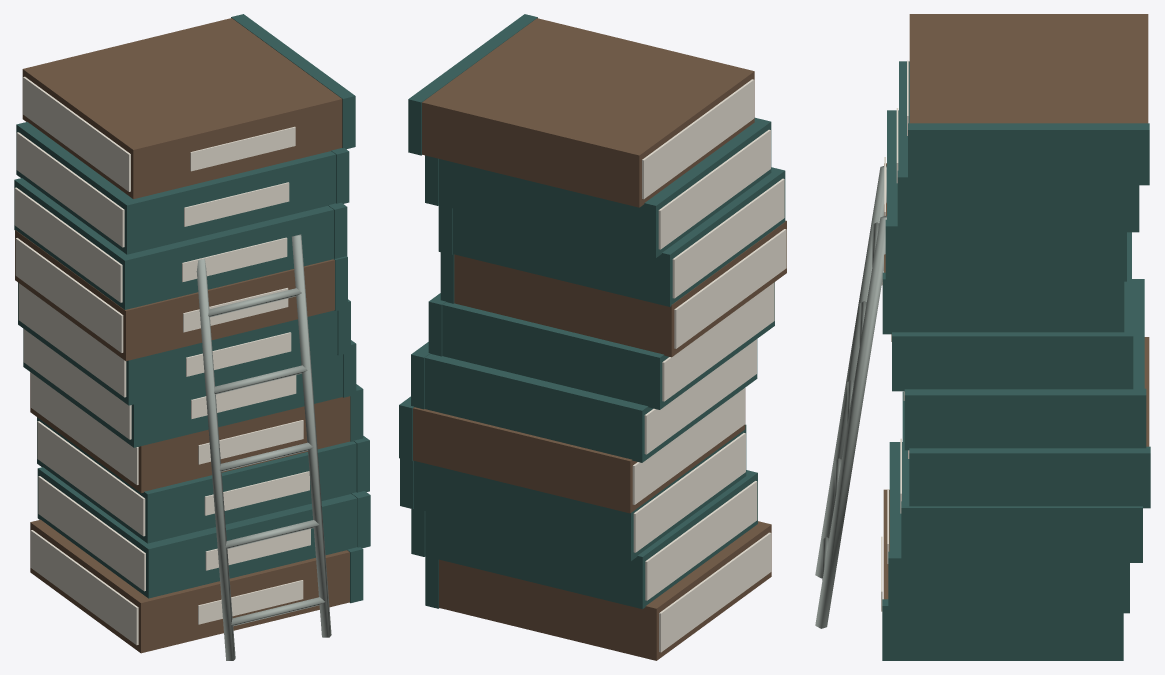
The model's file is tour-dossiers-v01.glb.
3 renders of one model, left to right at view 1: azimuth 30°, elevation 25°; view 2: azimuth 150°, elevation 25°; view 3: azimuth 270°, elevation 25°, orthographic. The views are drawn at different scales.
Parts seen in each view (by area): view 1: Dossier urgent 09, Dossier urgent 08, Dossier urgent 07, Dossier urgent 00, Dossier urgent 01, Dossier urgent 06, Dossier urgent 02, Dossier urgent 05, Dossier urgent 03, Dossier urgent 04, Tranche de papier, Tranche de papier.008 (+35 smaller); view 2: Dossier urgent 09, Dossier urgent 00, Dossier urgent 04, Dossier urgent 08, Dossier urgent 05, Dossier urgent 03, Dossier urgent 07, Dossier urgent 06, Dossier urgent 01, Dossier urgent 02, Tranche de papier, Tranche de papier.002 (+18 smaller); view 3: Dossier urgent 09, Dos du classeur.009, Dos du classeur.004, Dos du classeur.003, Dos du classeur.005, Dos du classeur.002, Dos du classeur.006, Dos du classeur.001, Dos du classeur.007, Dos du classeur.008, Dos du classeur, Montant échelle.001 (+9 smaller).
Boxes of the visible parts, x1,y1,x2,y2 form: Dossier urgent 09: [22, 18, 342, 199]; Dossier urgent 08: [16, 122, 335, 254]; Dossier urgent 07: [14, 178, 333, 309]; Dossier urgent 00: [30, 519, 349, 653]; Dossier urgent 01: [37, 467, 357, 598]; Dossier urgent 06: [15, 230, 334, 360]; Dossier urgent 02: [37, 417, 356, 543]; Dossier urgent 05: [18, 282, 337, 405]; Dossier urgent 03: [30, 372, 350, 493]; Dossier urgent 04: [23, 329, 342, 447]; Tranche de papier: [30, 530, 138, 645]; Tranche de papier.008: [16, 132, 124, 247]; Dossier urgent 09: [422, 18, 754, 207]; Dossier urgent 00: [439, 521, 771, 660]; Dossier urgent 04: [424, 339, 757, 462]; Dossier urgent 08: [438, 117, 771, 257]; Dossier urgent 05: [442, 282, 774, 409]; Dossier urgent 03: [413, 388, 745, 513]; Dossier urgent 07: [452, 167, 785, 306]; Dossier urgent 06: [454, 220, 786, 357]; Dossier urgent 01: [425, 470, 757, 609]; Dossier urgent 02: [413, 424, 746, 561]; Tranche de papier: [659, 532, 771, 652]; Tranche de papier.002: [633, 433, 745, 552]; Dossier urgent 09: [909, 14, 1148, 123]; Dos du classeur.009: [908, 123, 1149, 185]; Dos du classeur.004: [904, 388, 1146, 450]; Dos du classeur.003: [909, 446, 1150, 508]; Dos du classeur.005: [892, 329, 1133, 391]; Dos du classeur.002: [901, 501, 1142, 562]; Dos du classeur.006: [882, 272, 1124, 334]; Dos du classeur.001: [888, 551, 1129, 613]; Dos du classeur.007: [885, 219, 1126, 281]; Dos du classeur.008: [897, 170, 1139, 232]; Dos du classeur: [882, 599, 1123, 660]; Montant échelle.001: [815, 215, 886, 628].
Size of the model in its own units: 0.5828 by 1.08 by 0.6181.
